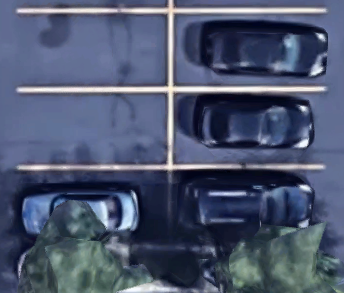Occupied: (171, 167, 325, 248), (170, 10, 326, 89), (17, 169, 171, 247), (172, 90, 326, 166)
Vacant: (14, 10, 171, 90), (16, 88, 171, 169)
